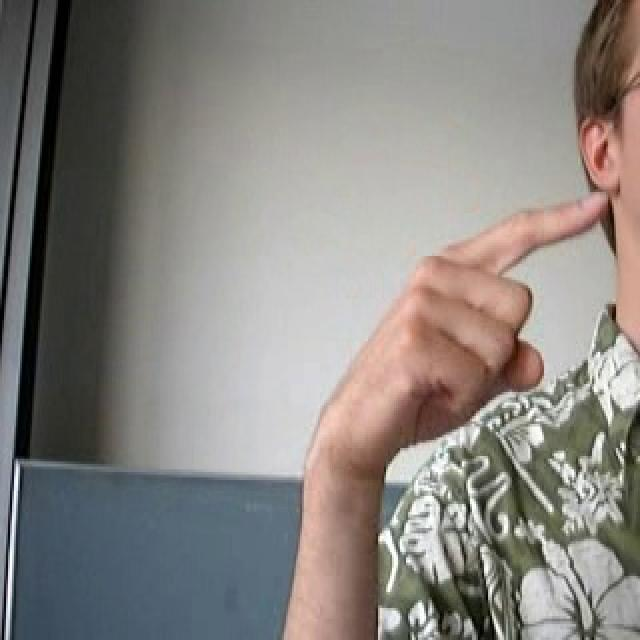G: (302, 177, 612, 472)
